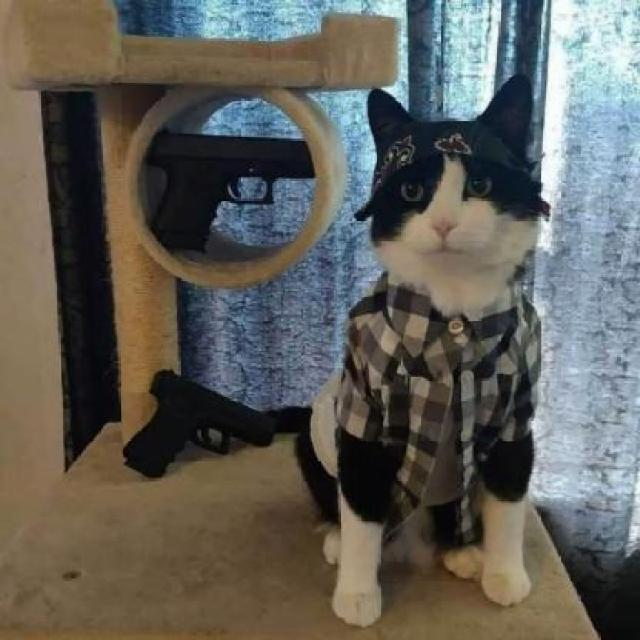cat: (337, 76, 546, 350)
